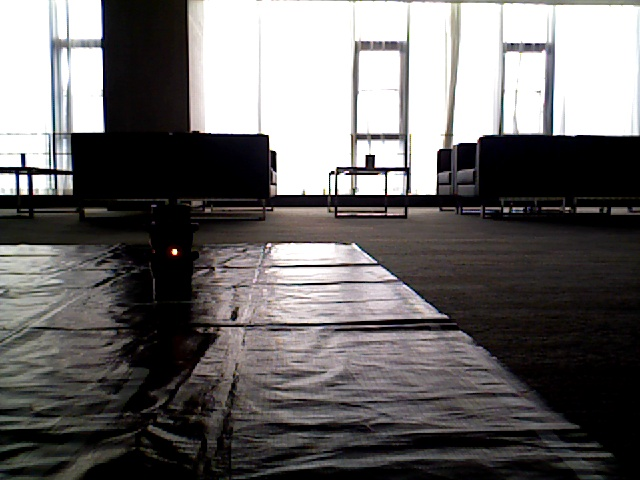yellow: (155, 201, 193, 294)
